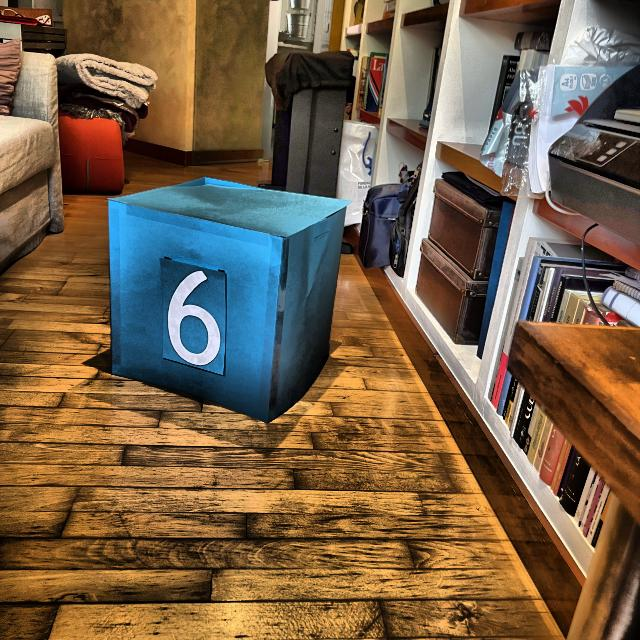blue box: (108, 179, 338, 426)
six: (166, 268, 223, 368)
